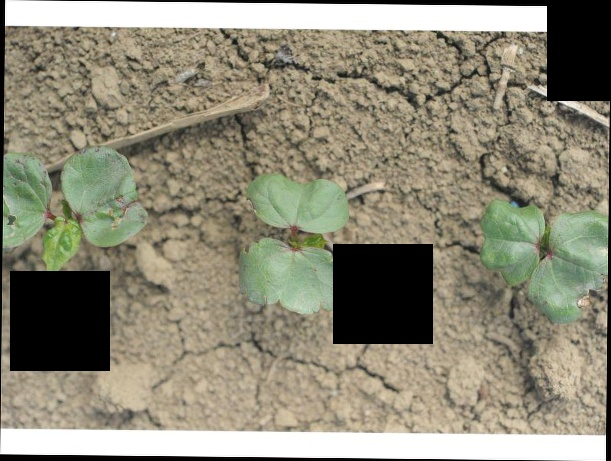cotton: (2, 144, 148, 279), (238, 173, 354, 314), (480, 200, 605, 324)
